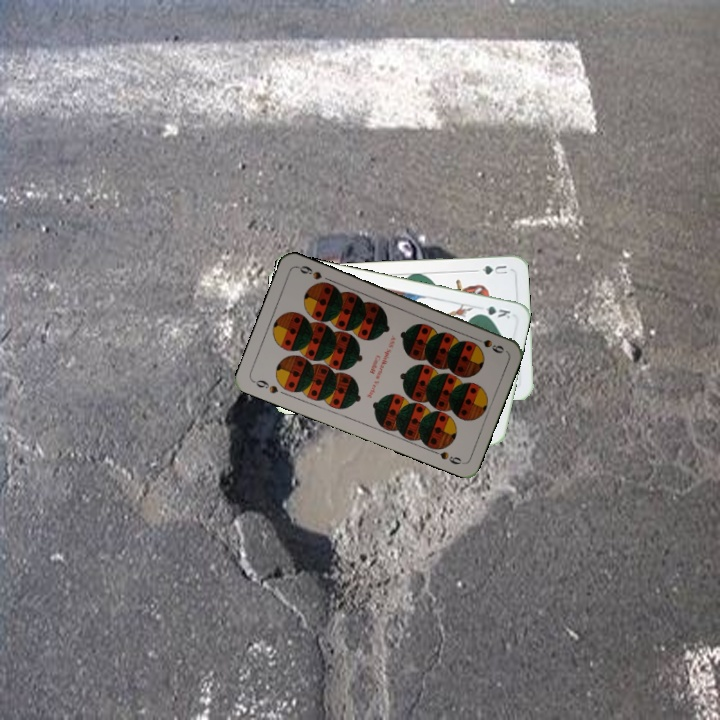GK: (473, 302, 513, 322)
GU: (478, 261, 510, 277)
S9: (468, 333, 506, 356), (249, 376, 281, 396)
